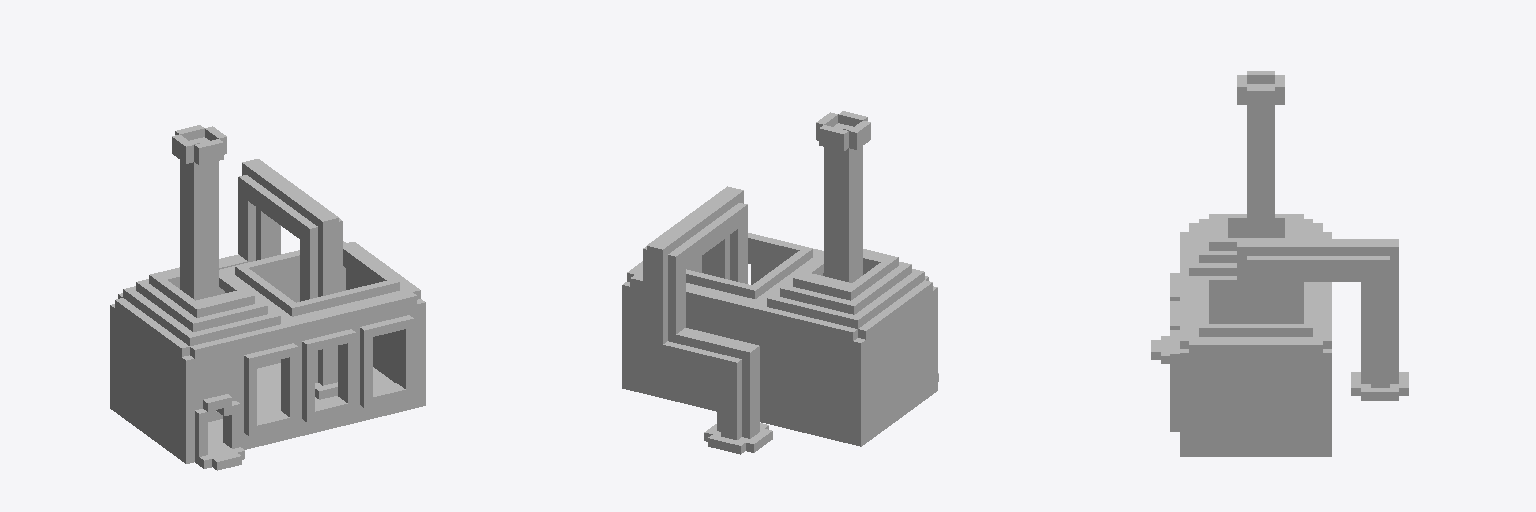
File: House 3_2 Mod.obj
3 views of the same model, side by side, from view 1: azimuth 30°, elevation 25°; view 2: azimuth 150°, elevation 25°; view 3: azimuth 270°, elevation 25° (orthographic).
Visible parts, largest first — view 1: object 1; view 2: object 1; view 3: object 1.
Part boxes in pixels (bbox=[...]): object 1: bbox=[110, 125, 425, 470]; object 1: bbox=[622, 111, 938, 454]; object 1: bbox=[1151, 71, 1408, 456].
Bounding box in the file's own units: 2.9 × 3.3 × 2.7.